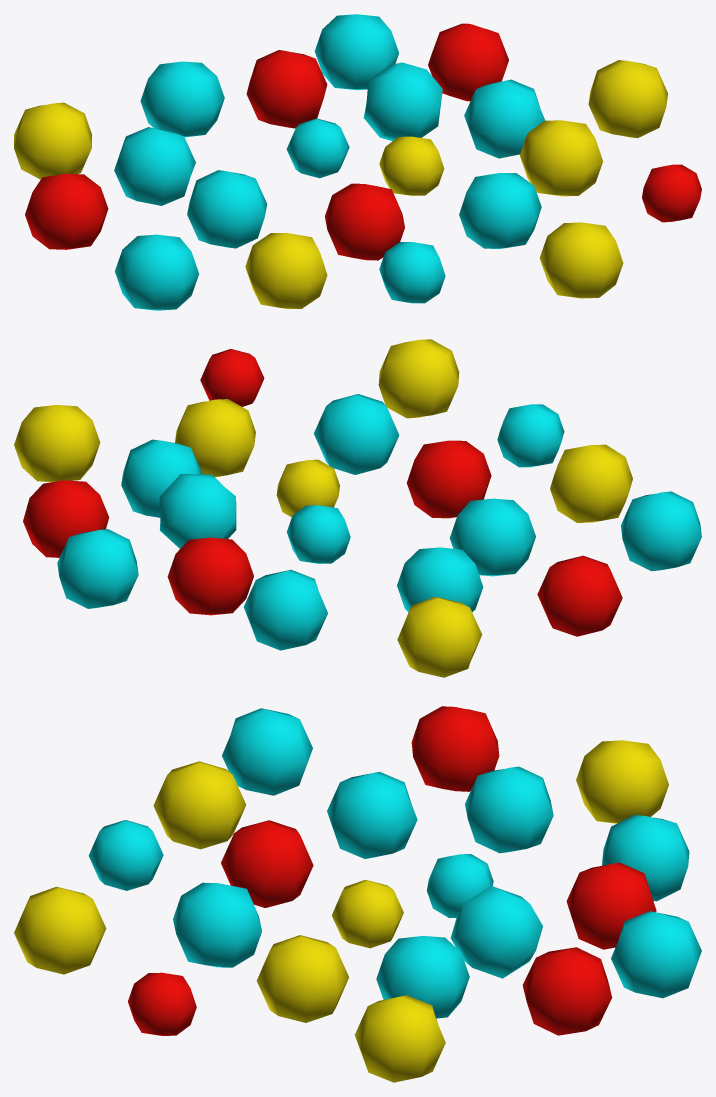
File: Canincas 1.fbx
The picture shows the model from 3 angles, top to bottom: view 1: azimuth 30°, elevation 25°; view 2: azimuth 150°, elevation 25°; view 3: azimuth 270°, elevation 25°; orthographic projection. The views are drawn at different scales.
Parts seen in each view (by area): view 1: Canicas; view 2: Canicas; view 3: Canicas.
Boxes of the visible parts, x1=… form: Canicas: x1=14, y1=14, x2=701, y2=310; Canicas: x1=14, y1=339, x2=701, y2=677; Canicas: x1=14, y1=706, x2=701, y2=1082.
Size of the model in its own units: 159 by 20.99 by 141.
